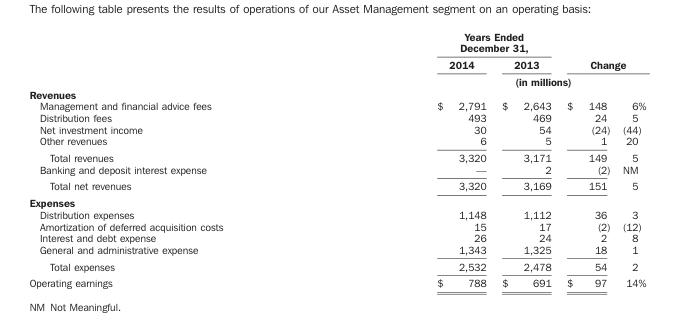table: (28, 29, 645, 288)
table column: (28, 29, 329, 288), (329, 29, 493, 288), (493, 29, 558, 288), (558, 29, 615, 288), (615, 29, 645, 288)
table column header: (28, 29, 645, 87)
table projected row header: (28, 194, 645, 208), (28, 87, 645, 99)
table row: (28, 29, 645, 55), (28, 55, 645, 72), (28, 177, 645, 194), (28, 257, 645, 274), (28, 72, 645, 87), (28, 148, 645, 163), (28, 134, 645, 148), (28, 163, 645, 177), (28, 194, 645, 208), (28, 243, 645, 257), (28, 274, 645, 288), (28, 87, 645, 99), (28, 99, 645, 111), (28, 111, 645, 123), (28, 219, 645, 231), (28, 231, 645, 243), (28, 123, 645, 134), (28, 208, 645, 219)
table spanning cell: (329, 29, 558, 55), (329, 72, 615, 87), (558, 29, 645, 72)
